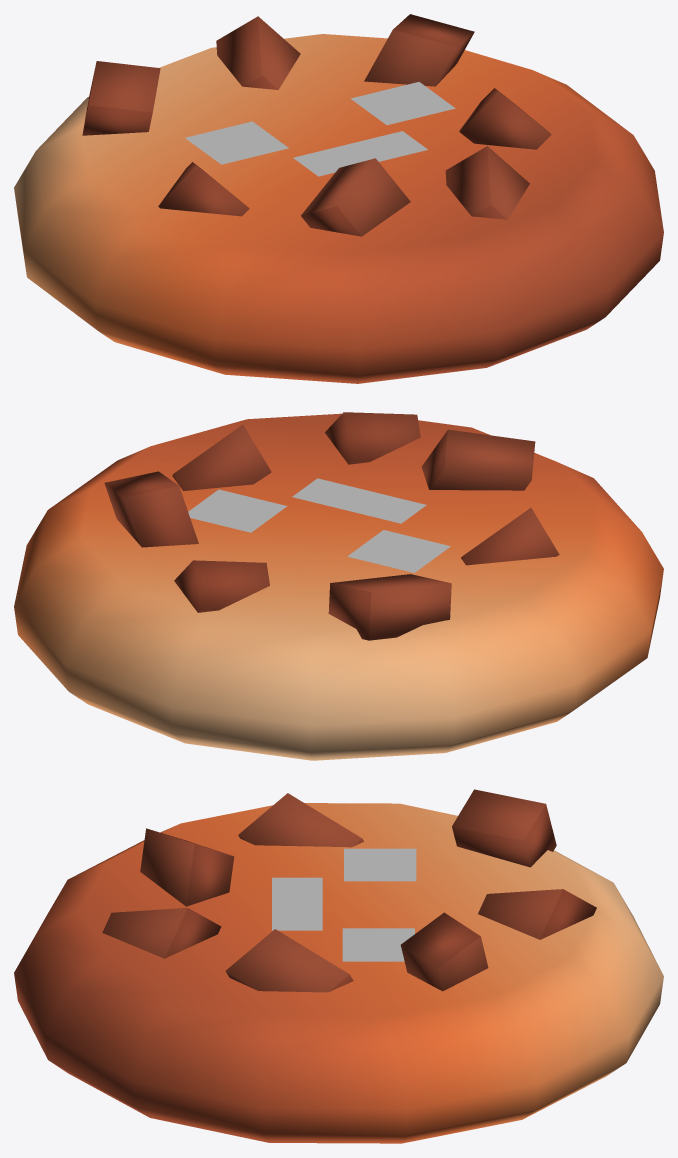
Rendered from cookie_light_smile.fbx.
The picture shows the model from 3 angles, top to bottom: view 1: azimuth 30°, elevation 25°; view 2: azimuth 150°, elevation 25°; view 3: azimuth 270°, elevation 25°; orthographic projection.
Visible parts, largest first — view 1: cookie_003, smile; view 2: cookie_003, smile; view 3: cookie_003, smile.
Part boxes in pixels (x1,y1,x2,y2): cookie_003: (14,14,663,383); smile: (185,82,455,176); cookie_003: (14,412,663,760); smile: (188,478,450,572); cookie_003: (14,789,663,1143); smile: (272,848,416,961).
Bounding box in the file's own units: 48.09 × 13.31 × 49.19.
